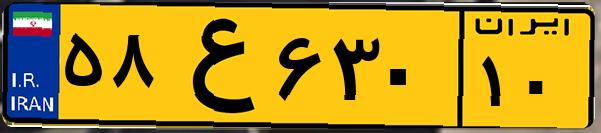0: (385, 28, 445, 110), (525, 38, 570, 115)
1: (475, 38, 525, 113)
3: (330, 28, 385, 110)
5: (57, 26, 110, 100)
6: (270, 28, 330, 110)
8: (110, 28, 158, 98)
ع: (158, 12, 270, 120)
